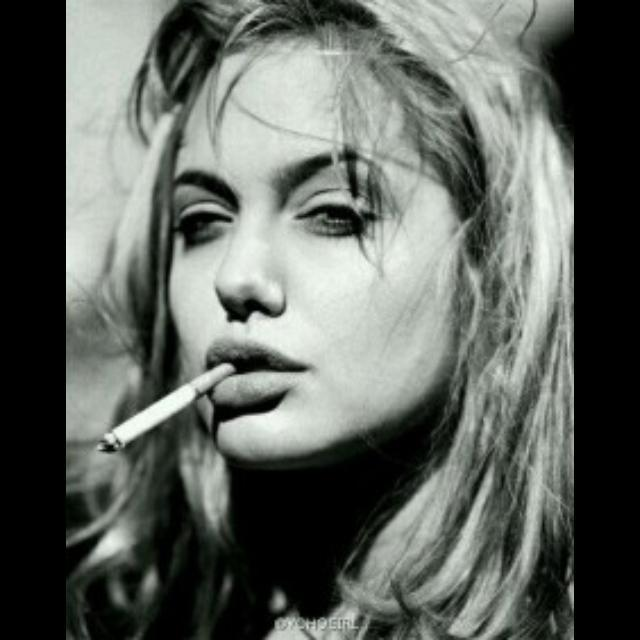rokok: (95, 358, 251, 458)
